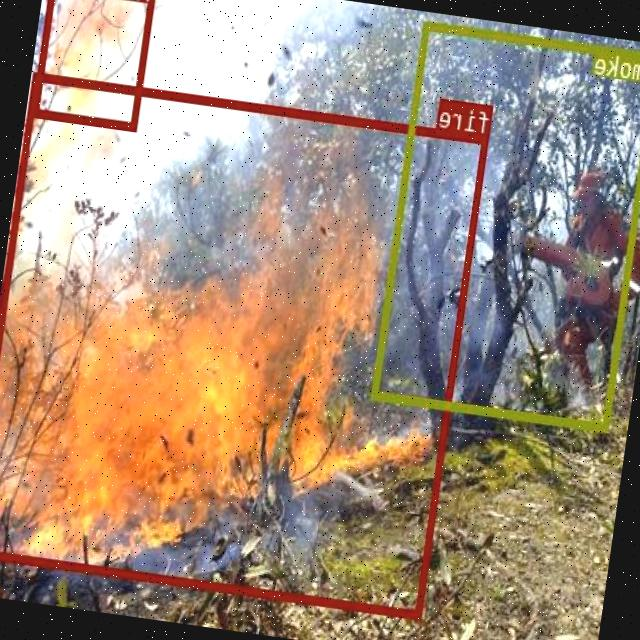fire: (0, 71, 490, 618), (34, 0, 159, 130)
smoke: (372, 19, 640, 431)
